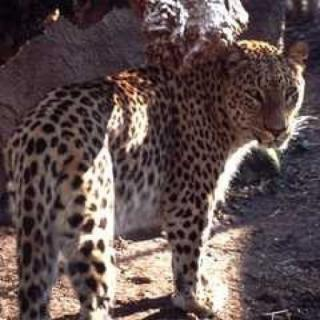Leopard: (25, 31, 301, 320)
